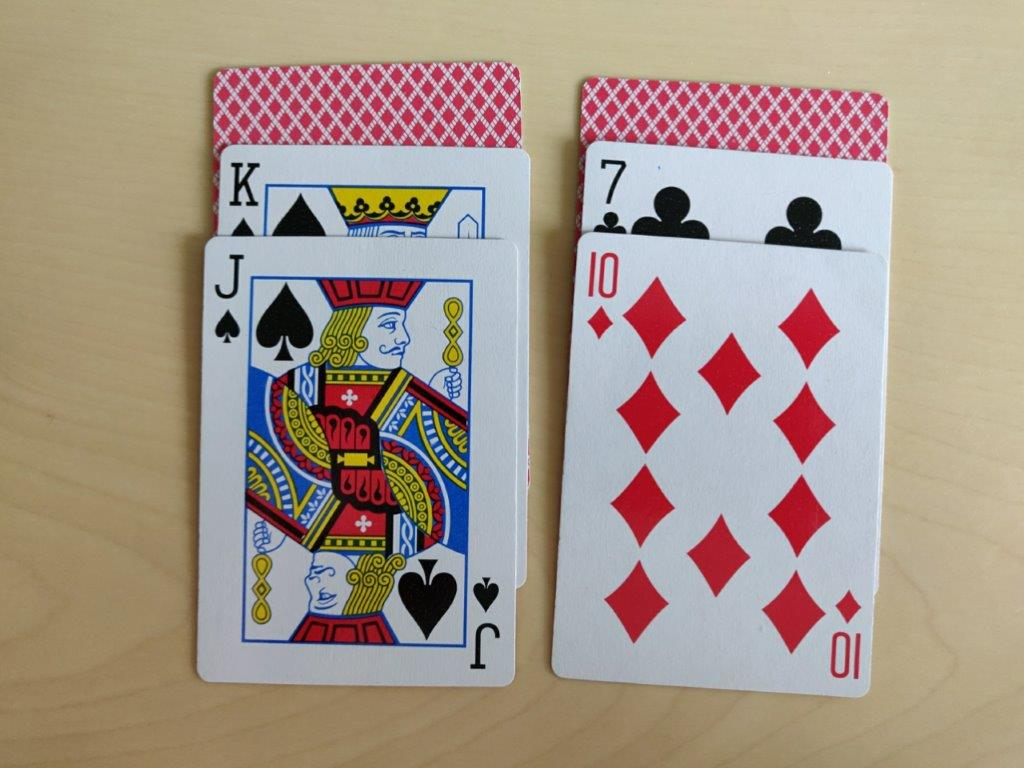10D: (581, 248, 622, 342)
7C: (591, 156, 632, 240)
BACK: (203, 60, 528, 149), (578, 74, 893, 163)
JS: (212, 248, 246, 352)
KS: (224, 156, 261, 241)
